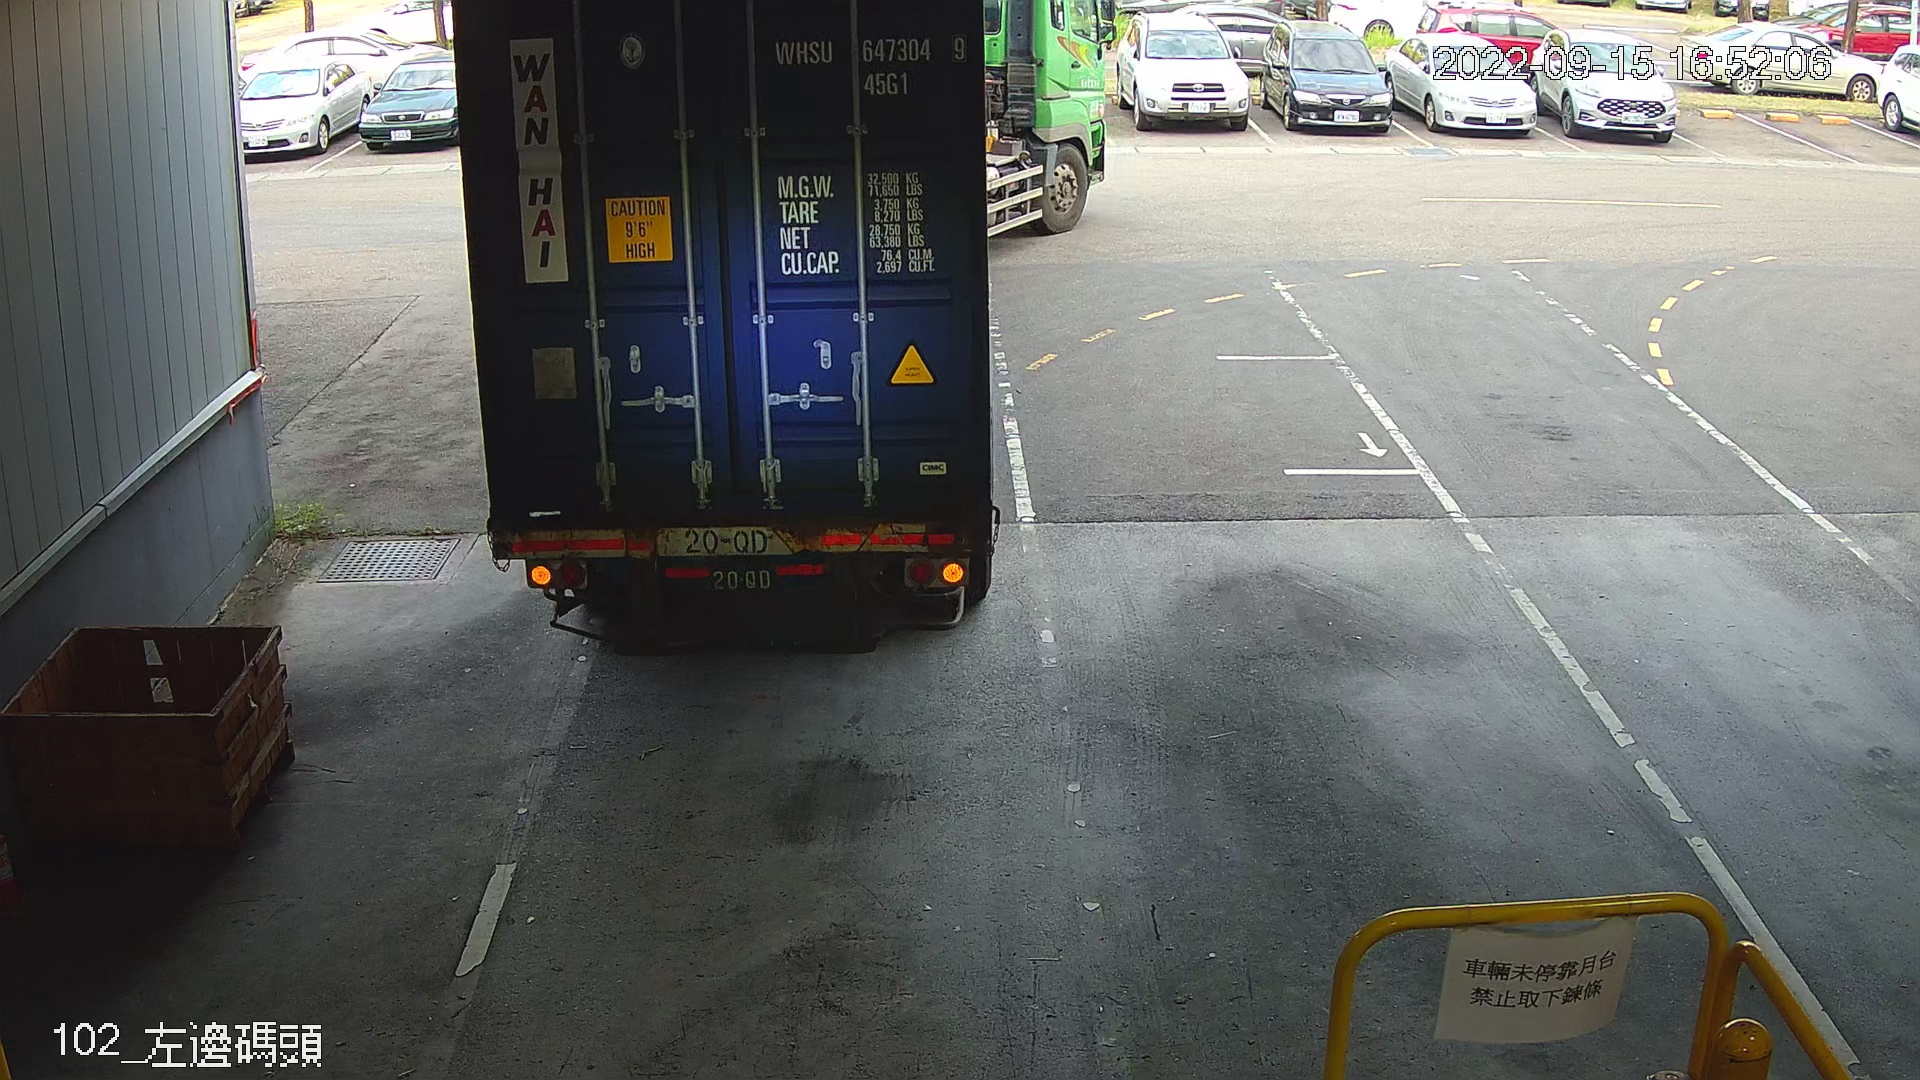container: (766, 26, 973, 104)
